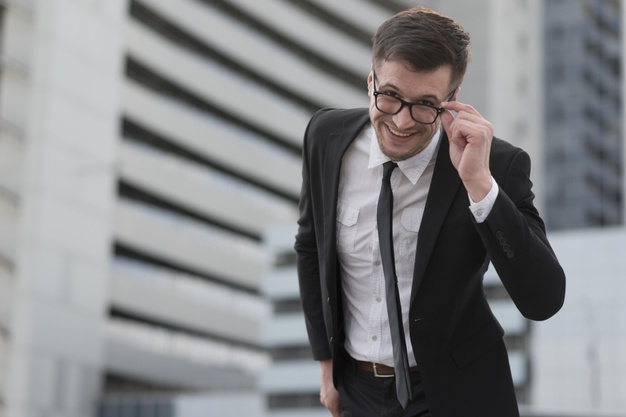glasses: (364, 82, 458, 128)
tie: (373, 156, 428, 406)
